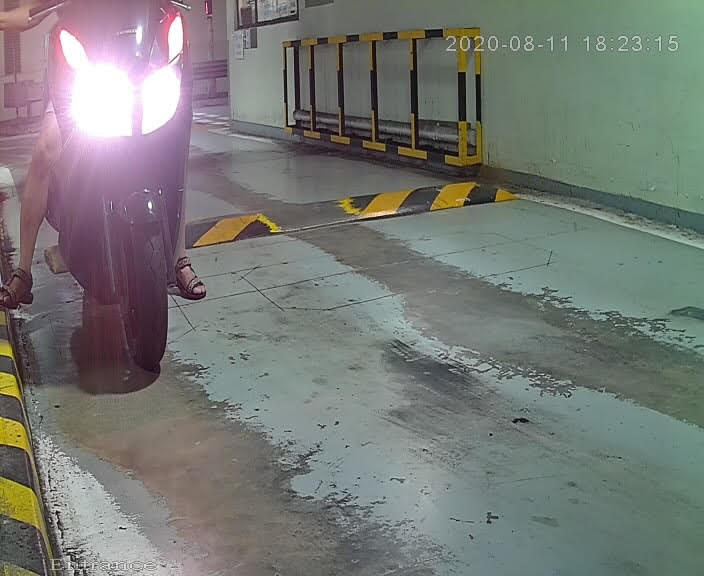motorcycle: (1, 1, 231, 384)
